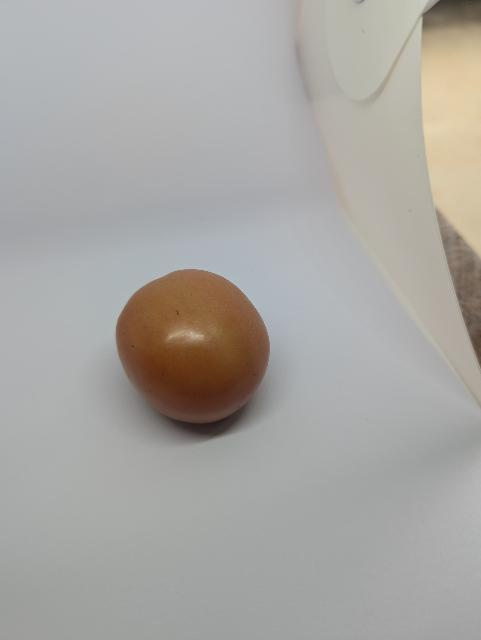turning: (111, 263, 282, 430)
